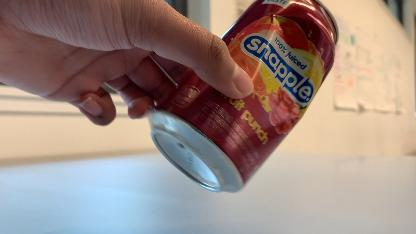Can: (140, 0, 346, 198)
